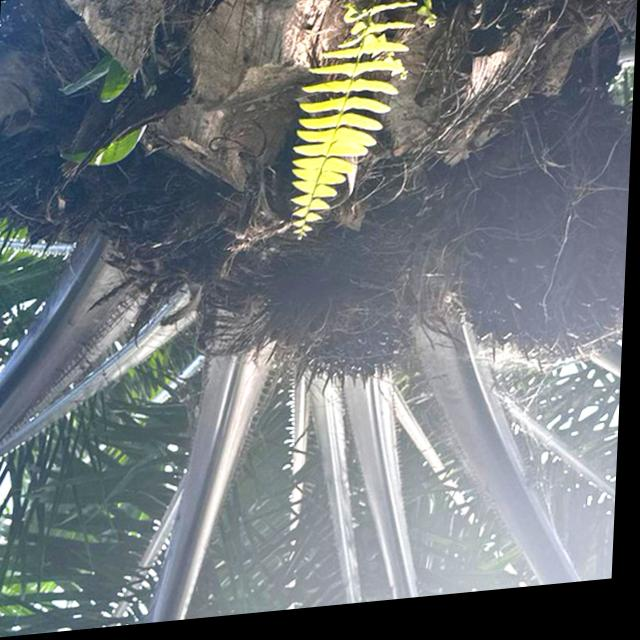unripe: (436, 93, 635, 401), (254, 237, 428, 422)
